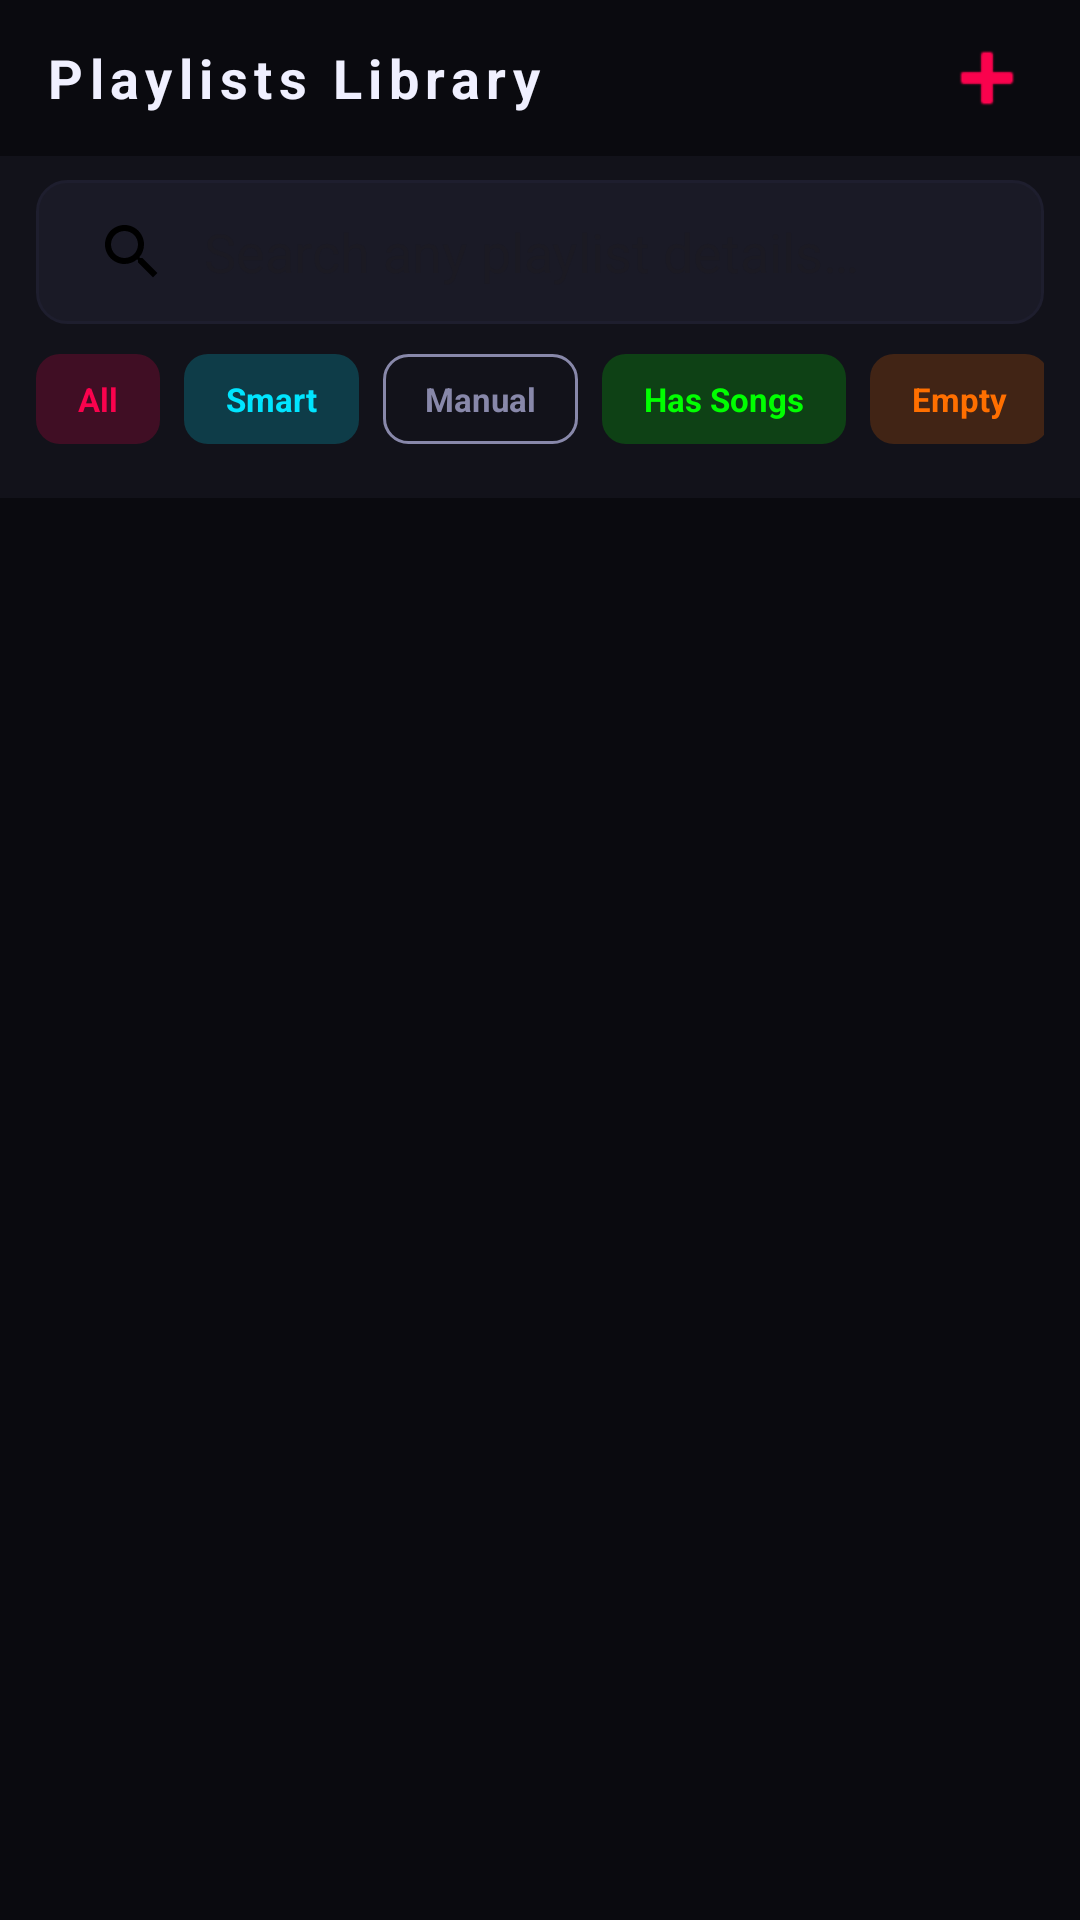

Point at icon controls on the screen. Image size 1080*1920, points as (x=x, y=y).
add: (x=987, y=78)
